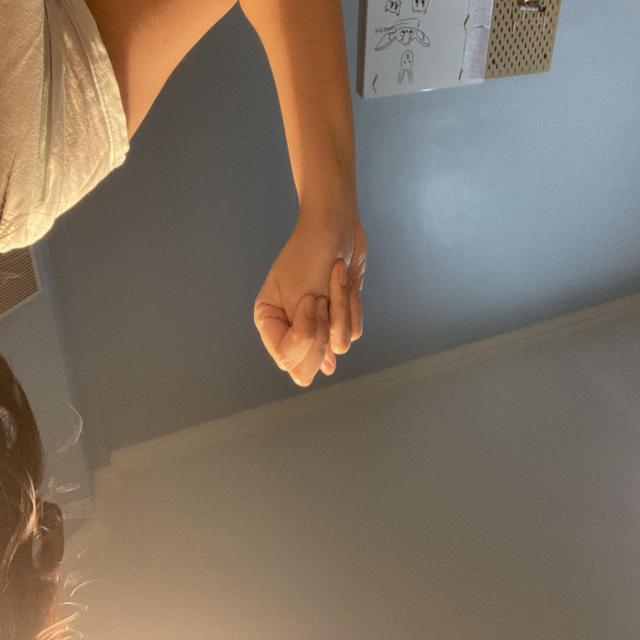N: (272, 253, 387, 431)
